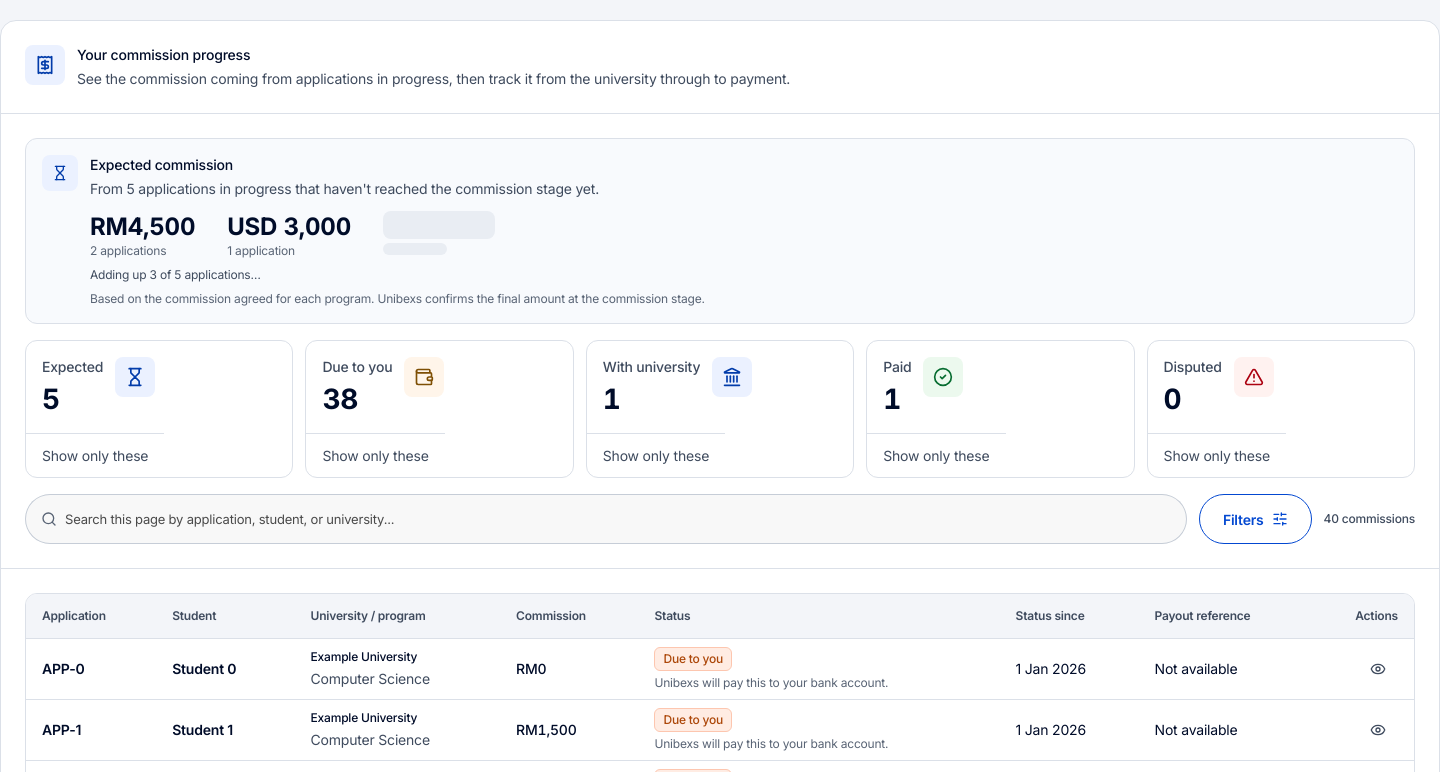
Test: lists expected rows from the Expected tile
Expected: the text "Expected Student 1" is not shown
What coordinates should you click on to do the following:
click the button "Expected 5 Show only these"
I would click on:
 (73, 366)
Its box is [25,340,293,478].
(page scrolled)
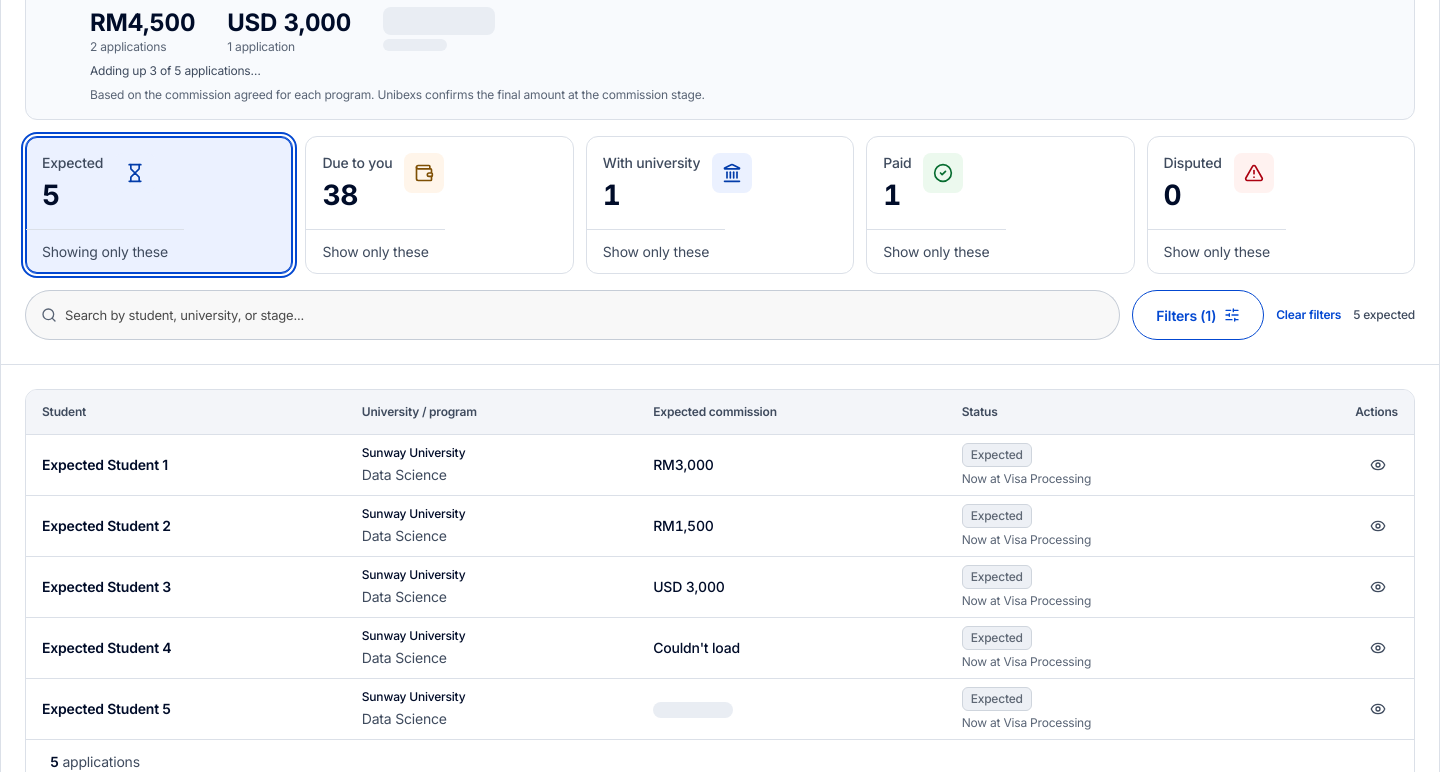
Expected: the text "Expected Student 1" is shown, [42,456,168,473]
Expected: the text "RM3,000" is shown, [653,456,714,473]
Expected: the text "USD 3,000" in the row of "Expected Student 3" is shown, [653,578,725,595]
